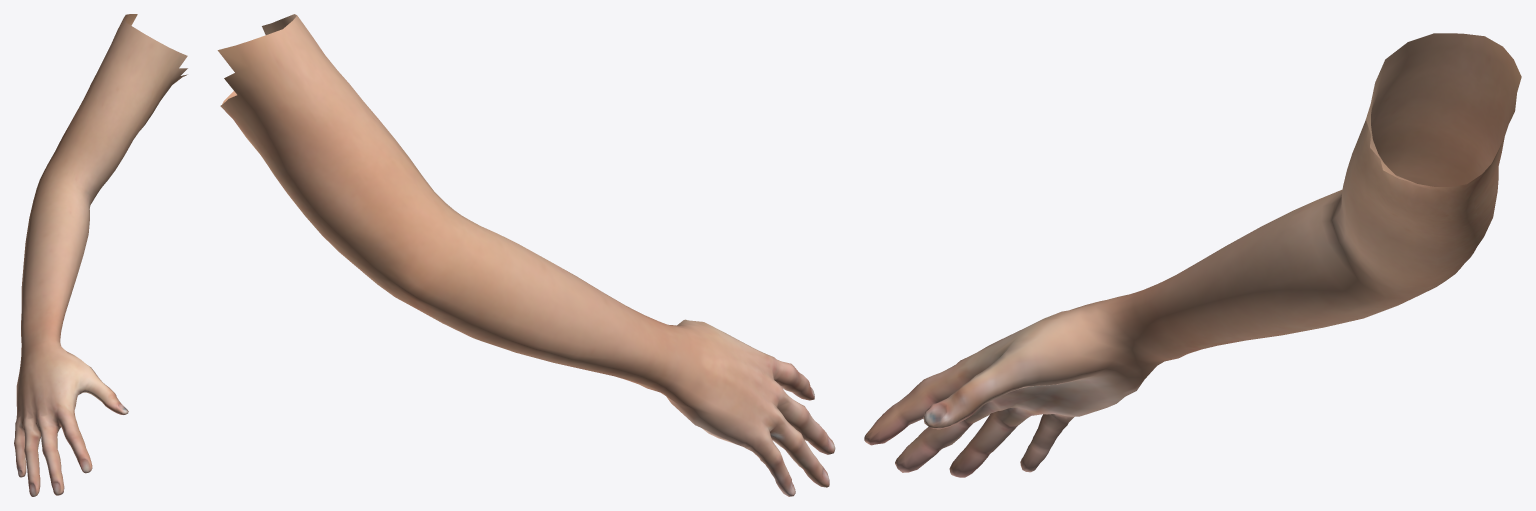
Rendered from brazoDerecho.obj.
3 views of the same model, side by side, from view 1: azimuth 30°, elevation 25°; view 2: azimuth 150°, elevation 25°; view 3: azimuth 270°, elevation 25° (orthographic). The views are drawn at different scales.
Visible parts, largest first — view 1: red_woman-base; view 2: red_woman-base; view 3: red_woman-base.
Boxes of the visible parts, box(x1,y1,x2,y2) form: red_woman-base: box(14, 14, 187, 496); red_woman-base: box(217, 14, 835, 496); red_woman-base: box(864, 33, 1521, 477).
Size of the model in its own units: 3.49 by 4.16 by 3.77.
